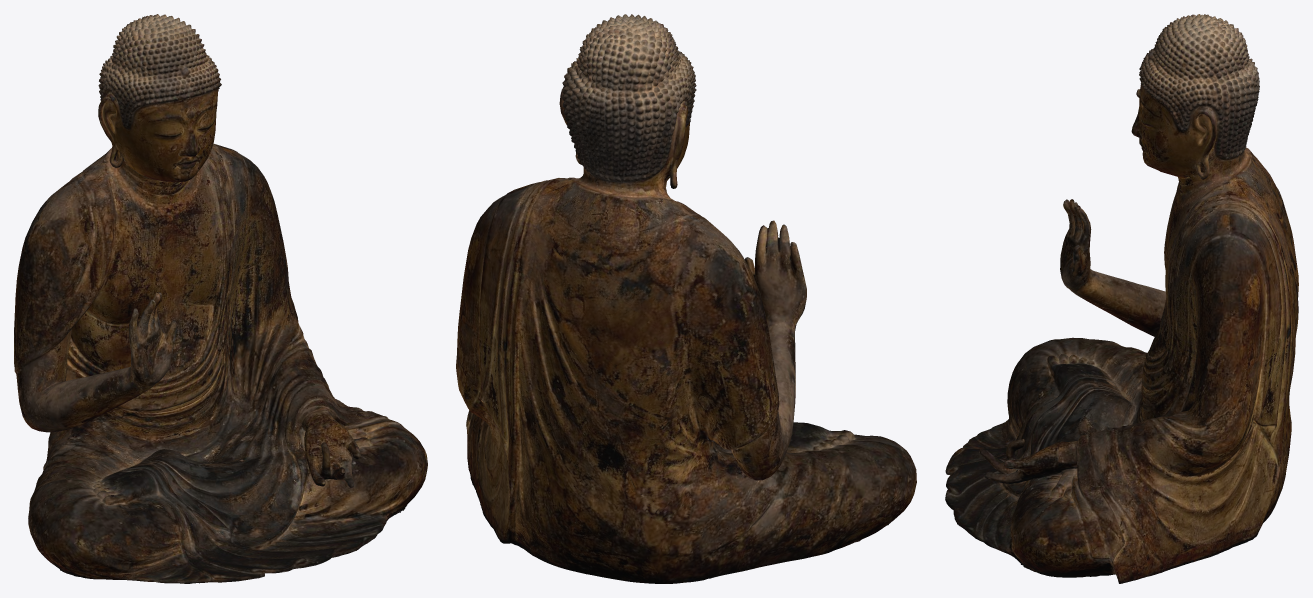
3 renders of one model, left to right at view 1: azimuth 30°, elevation 25°; view 2: azimuth 150°, elevation 25°; view 3: azimuth 270°, elevation 25°, orthographic. The views are drawn at different scales.
Bounding box in the file's own units: 0.7199 × 0.8541 × 0.5759.
Materials: 1 (1 with a texture image).
